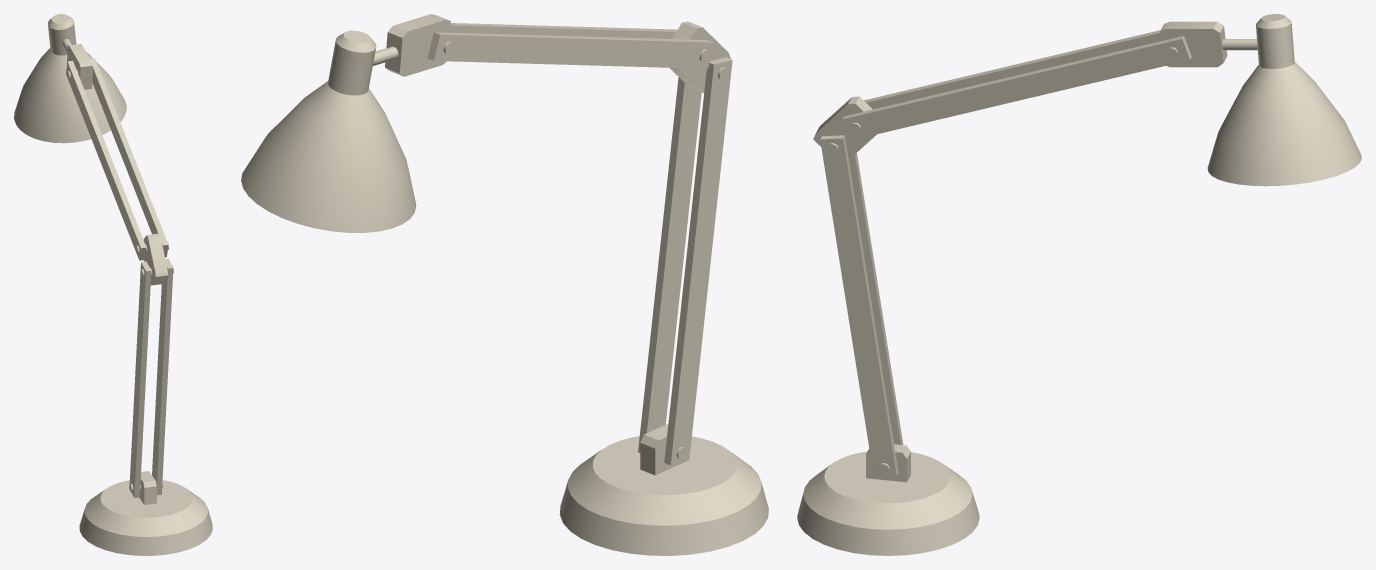
File: Lamp.fbx
3 views of the same model, side by side, from view 1: azimuth 30°, elevation 25°; view 2: azimuth 150°, elevation 25°; view 3: azimuth 270°, elevation 25° (orthographic). The views are drawn at different scales.
Visible parts, largest first — view 1: Lamp; view 2: Lamp; view 3: Lamp.
Part boxes in pixels (x1=…): Lamp: x1=14, y1=14, x2=212, y2=555; Lamp: x1=241, y1=14, x2=768, y2=555; Lamp: x1=797, y1=14, x2=1361, y2=555.
Bounding box in the file's own units: 19.54 × 41.88 × 39.82.
